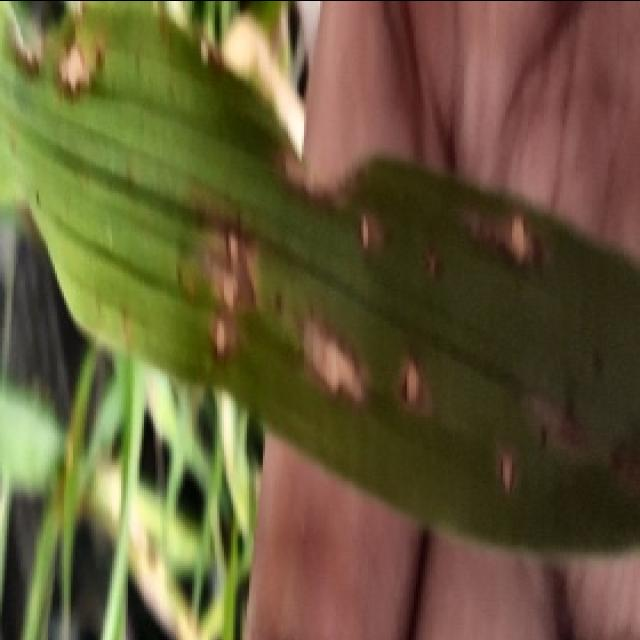Leaf_Blast: (188, 122, 640, 510)
